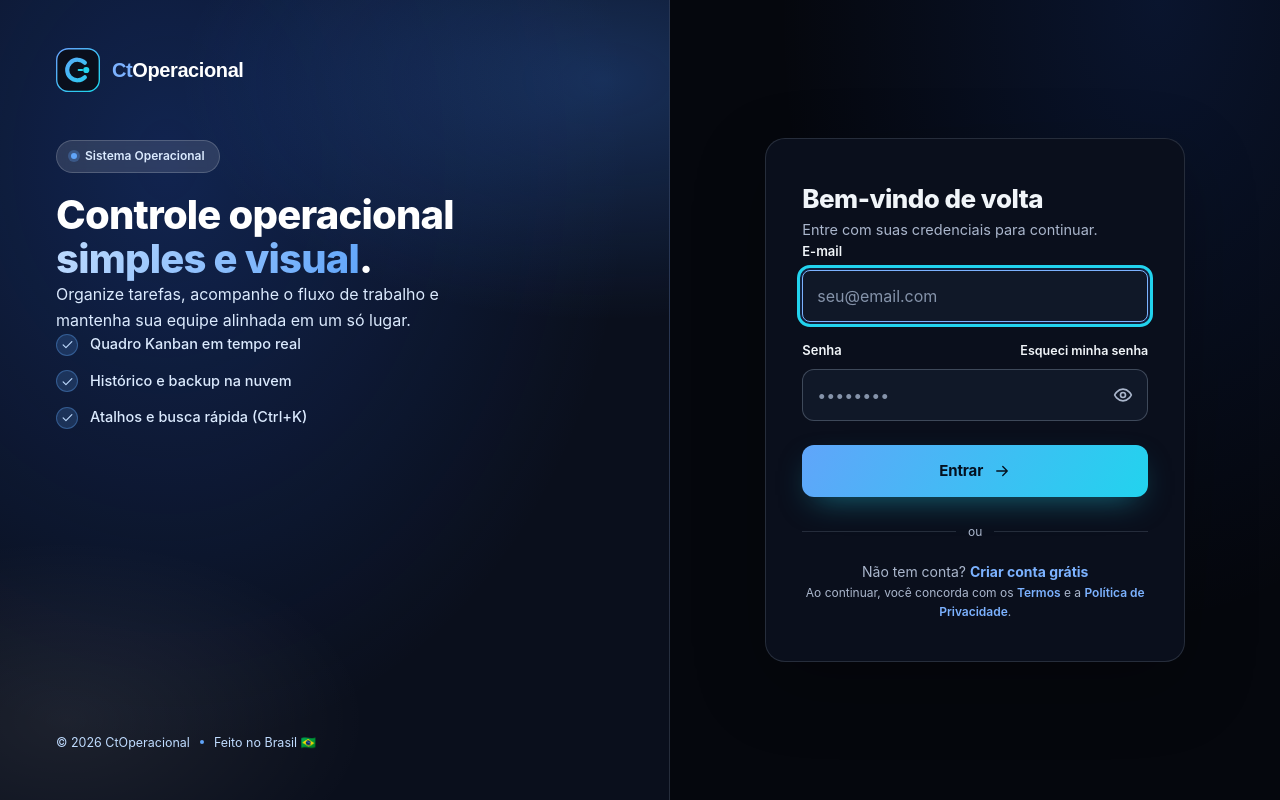
Scenario: acesso e formulários › mostra erro de credenciais sem sair do login
Type "ana@teste.com" into the field labelled "E-mail" at x=975, y=296, box [802,270,1148,322]
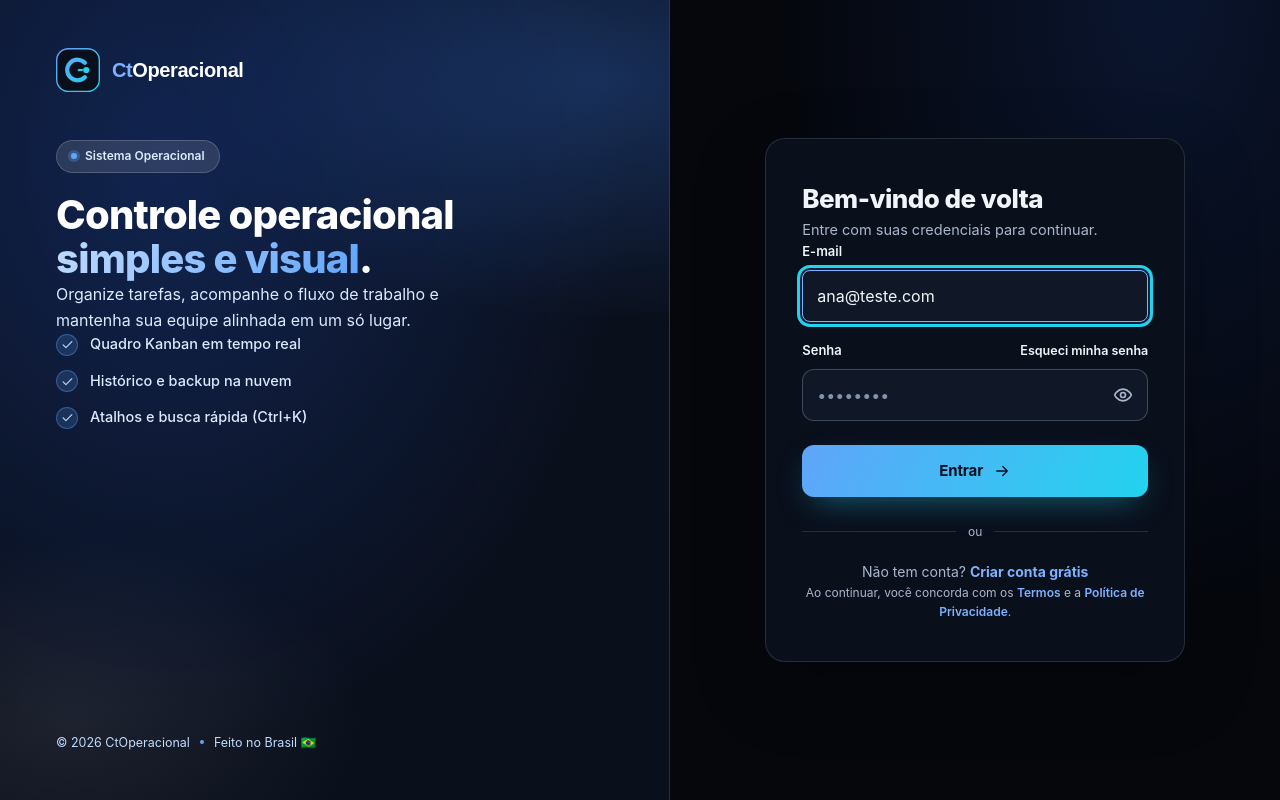
Type "errada" into the password field labelled "Senha" at x=975, y=395, box [802,369,1148,421]
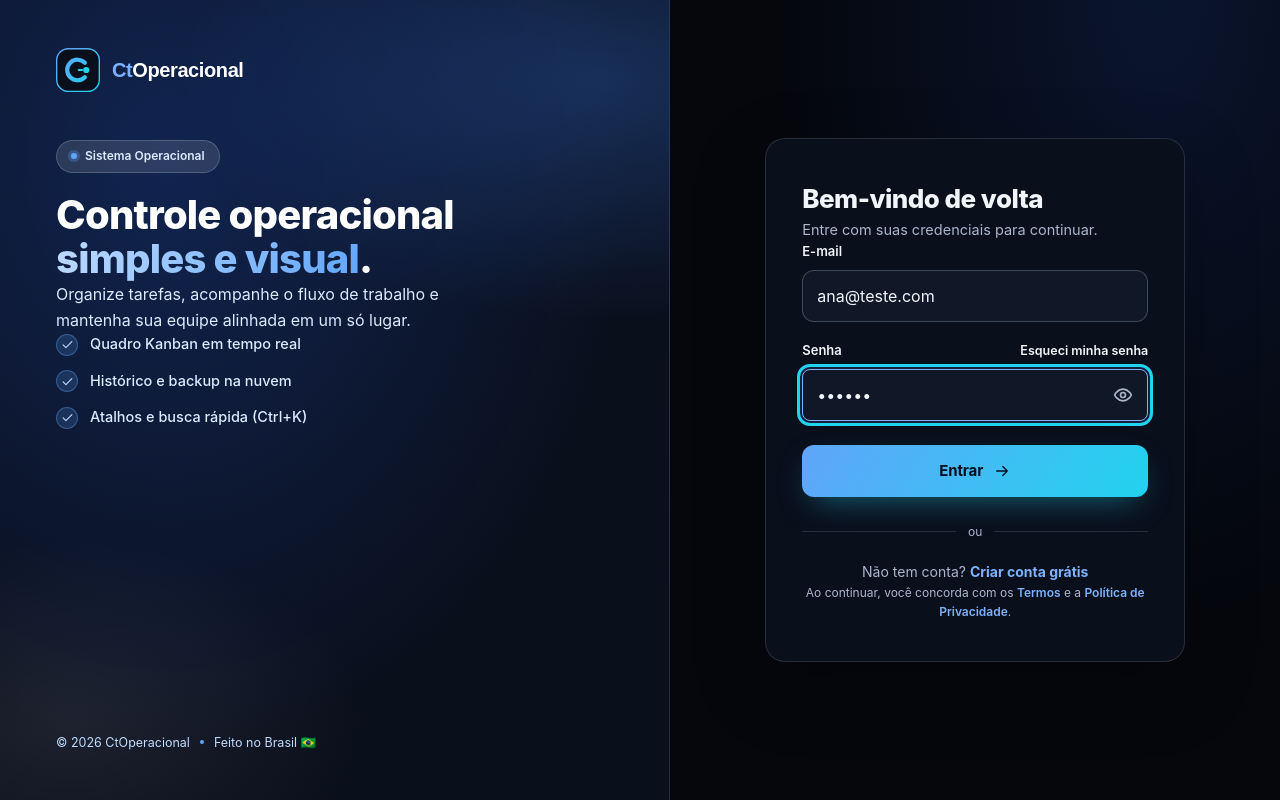
Click the button "Entrar" at x=975, y=471, box [802,445,1148,497]
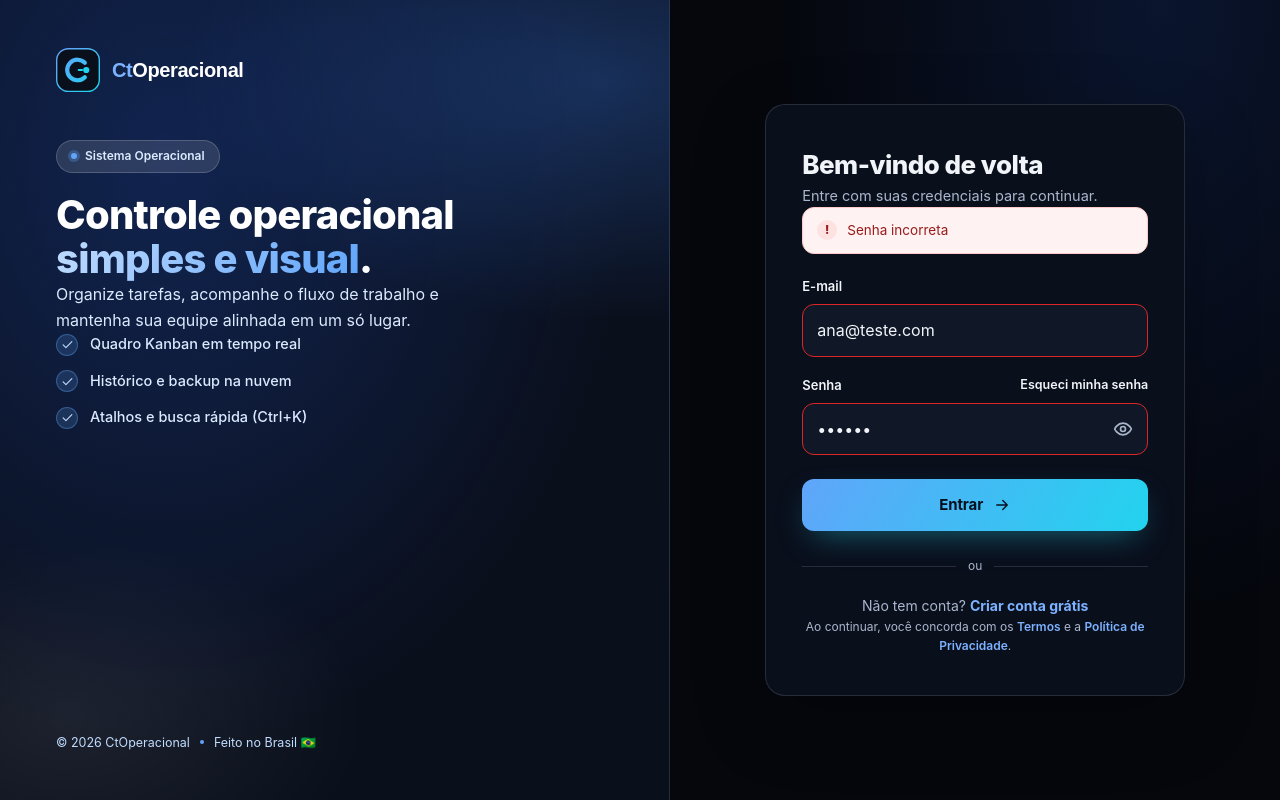
Check: the message shows "Senha incorreta", box [847,222,948,238]
